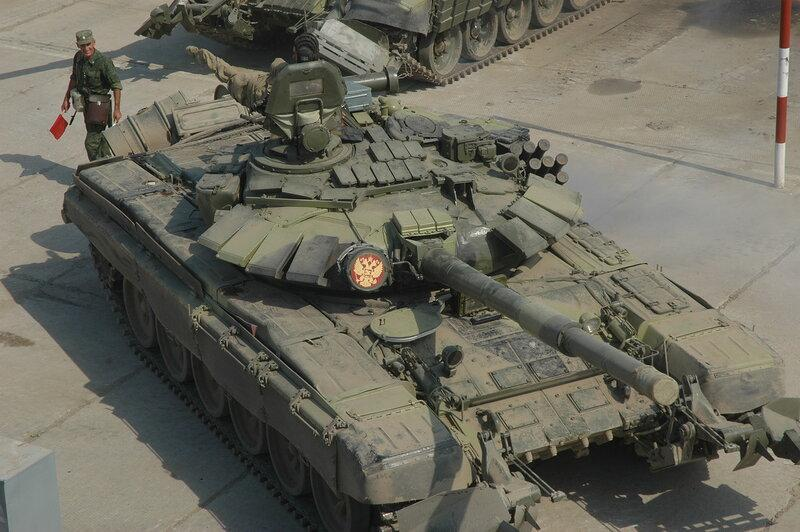tank: (44, 52, 796, 513)
